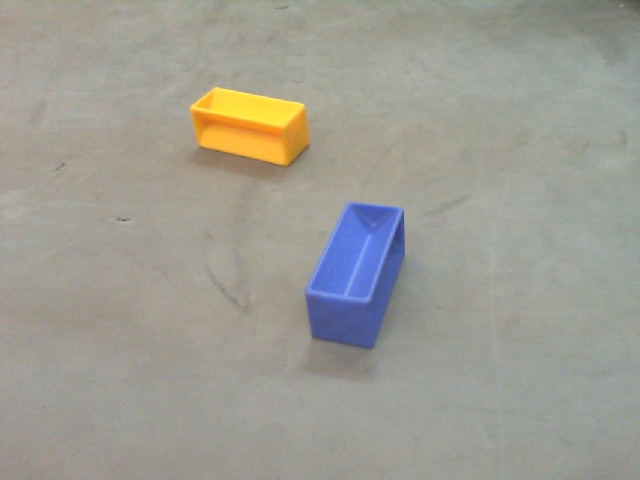BlueSample: (301, 201, 409, 352)
YellowSample: (185, 83, 312, 168)
